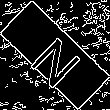N_NE: (23, 23, 87, 87)
